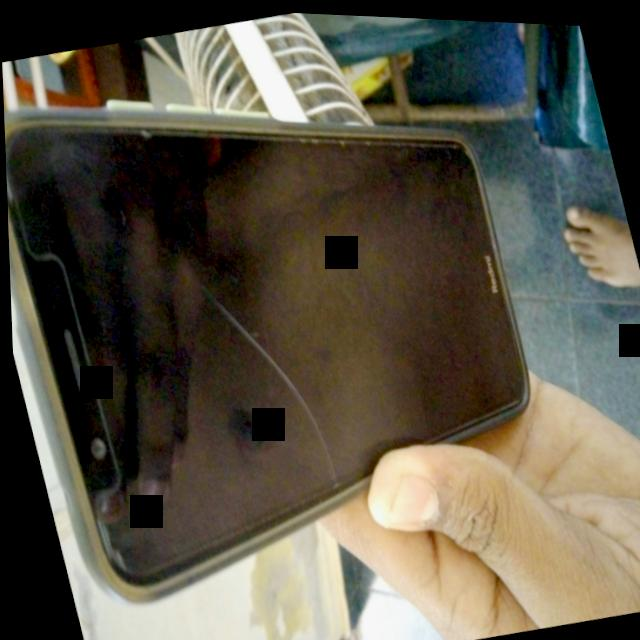Scratches: (182, 253, 358, 504)
